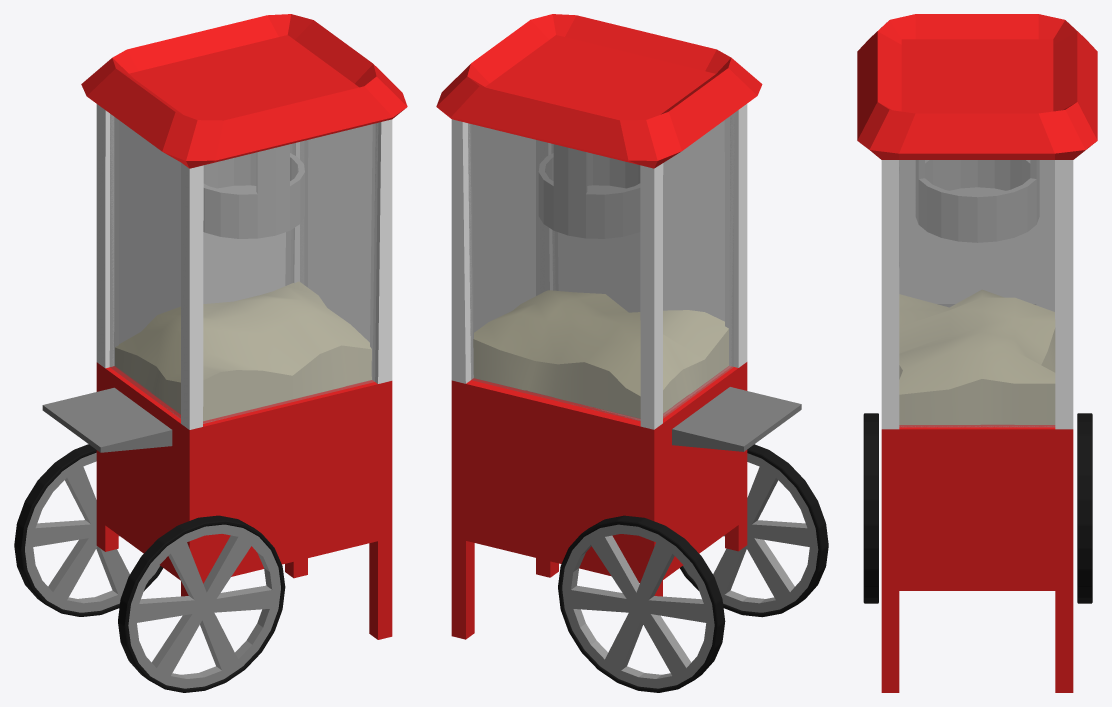
File: popcorn_cart.glb
The picture shows the model from 3 angles, left to right: view 1: azimuth 30°, elevation 25°; view 2: azimuth 150°, elevation 25°; view 3: azimuth 270°, elevation 25°; orthographic projection. The views are drawn at different scales.
Parts seen in each view (by area): view 1: main_body1, pCube14, popcorn, wheel_metal (×2), pCube15, pCube9, pCube13, hotThing, wheel_rubber (×2), pCube16; view 2: main_body1, pCube9, popcorn, wheel_metal (×2), pCube15, pCube14, pCube13, hotThing, wheel_rubber (×2), pCube16; view 3: main_body1, pCube13, popcorn, pCube15, hotThing, wheel_rubber (×2).
Boxes of the visible parts, <box> form: main_body1: <box>81,14,407,639</box>; pCube14: <box>203,123,378,423</box>; popcorn: <box>115,281,371,420</box>; wheel_metal (×2): <box>25,452,280,688</box>; pCube15: <box>109,114,180,418</box>; pCube9: <box>119,121,294,343</box>; pCube13: <box>300,124,372,341</box>; hotThing: <box>203,144,304,238</box>; wheel_rubber (×2): <box>14,444,285,692</box>; pCube16: <box>42,387,172,452</box>; main_body1: <box>436,14,762,639</box>; pCube9: <box>468,123,640,420</box>; popcorn: <box>473,290,728,418</box>; wheel_metal (×2): <box>562,453,818,688</box>; pCube15: <box>663,113,734,418</box>; pCube14: <box>552,121,724,320</box>; pCube13: <box>472,124,543,331</box>; hotThing: <box>539,144,639,238</box>; wheel_rubber (×2): <box>558,444,828,692</box>; pCube16: <box>672,387,801,451</box>; main_body1: <box>857,14,1097,692</box>; pCube13: <box>899,160,1055,427</box>; popcorn: <box>899,290,1054,424</box>; pCube15: <box>899,160,1054,311</box>; hotThing: <box>916,160,1039,242</box>; wheel_rubber (×2): <box>863,413,1092,603</box>.
Bounding box in the file's own units: 20.36 × 37.06 × 13.95.
